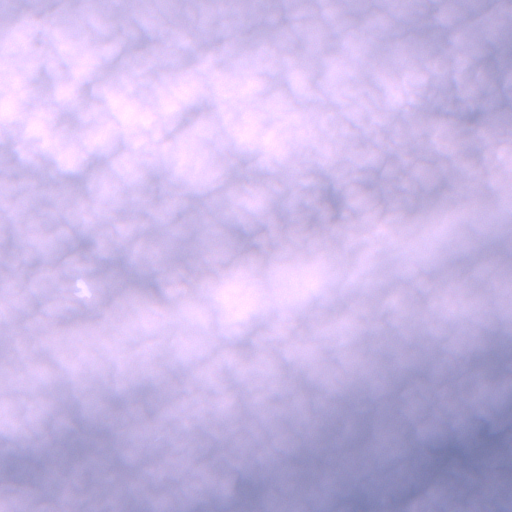Iceberg: (75, 279, 91, 297)
